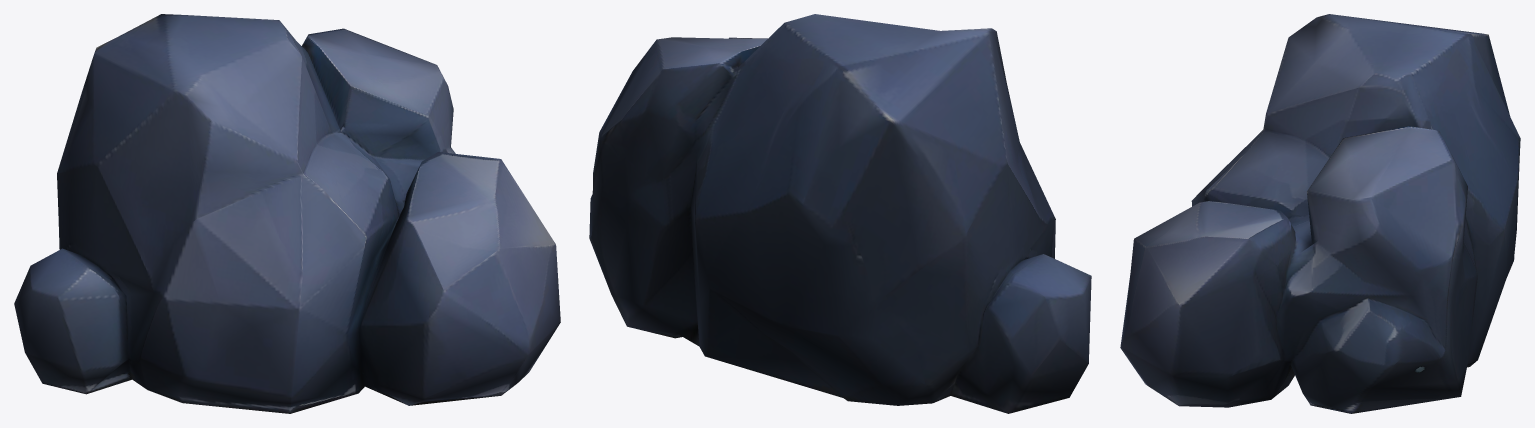
Rendered from Ore.fbx.
3 views of the same model, side by side, from view 1: azimuth 30°, elevation 25°; view 2: azimuth 150°, elevation 25°; view 3: azimuth 270°, elevation 25° (orthographic). The views are drawn at different scales.
Parts seen in each view (by area): view 1: tripo_node_209c9e24; view 2: tripo_node_209c9e24; view 3: tripo_node_209c9e24.
Part boxes in pixels (x1,y1,x2,y2): tripo_node_209c9e24: (14,14,560,413); tripo_node_209c9e24: (589,14,1091,413); tripo_node_209c9e24: (1120,14,1520,413).
Bounding box in the file's own units: 100 × 83.2 × 63.48.
Materials: 1 (1 with a texture image).
